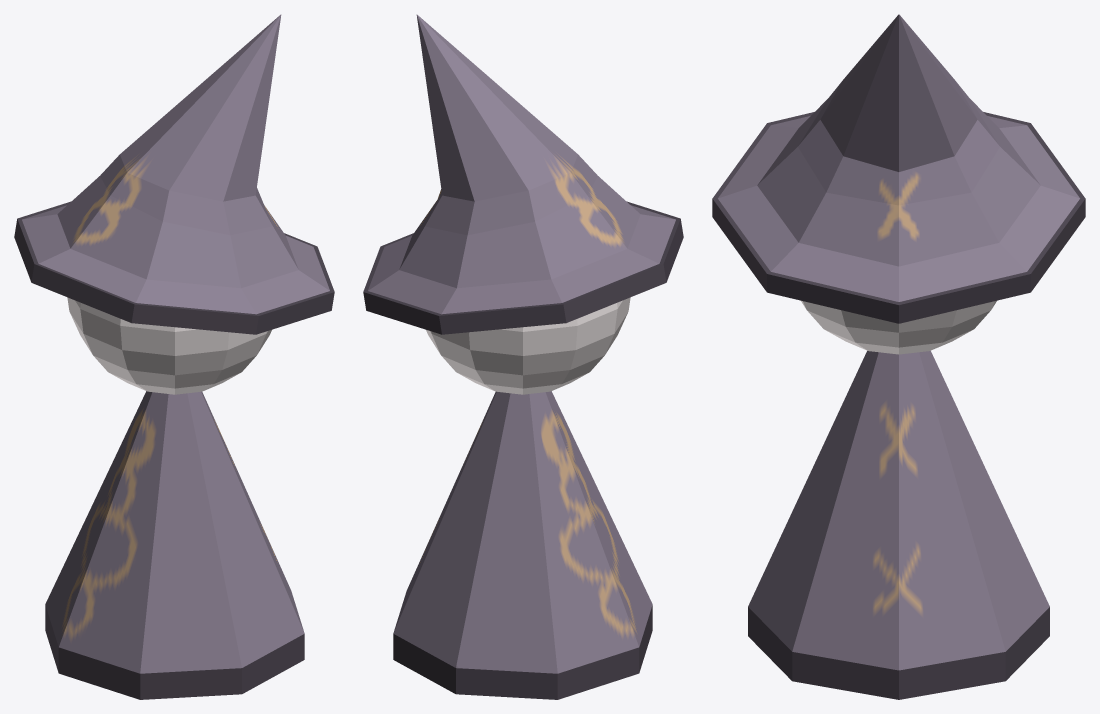
File: spellpiercer.fbx
3 views of the same model, side by side, from view 1: azimuth 30°, elevation 25°; view 2: azimuth 150°, elevation 25°; view 3: azimuth 270°, elevation 25° (orthographic). The views are drawn at different scales.
Visible parts, largest first — view 1: Cylinder, Cylinder.002, Sphere, Cylinder.001; view 2: Cylinder, Cylinder.002, Sphere, Cylinder.001; view 3: Cylinder, Cylinder.002, Cylinder.001, Sphere.
Boxes of the visible parts, left/top/right/bottom form: Cylinder: left=45, top=391, right=304, bottom=699; Cylinder.002: left=22, top=14, right=329, bottom=314; Sphere: left=67, top=297, right=271, bottom=394; Cylinder.001: left=14, top=201, right=334, bottom=334; Cylinder: left=393, top=391, right=652, bottom=699; Cylinder.002: left=368, top=14, right=675, bottom=314; Sphere: left=426, top=297, right=630, bottom=394; Cylinder.001: left=363, top=201, right=683, bottom=334; Cylinder: left=748, top=351, right=1049, bottom=699; Cylinder.002: left=718, top=14, right=1079, bottom=301; Cylinder.001: left=712, top=112, right=1085, bottom=323; Sphere: left=801, top=300, right=996, bottom=354.
Size of the model in its own units: 51.99 by 105 by 52.22.
Materials: 4 (4 with a texture image).
